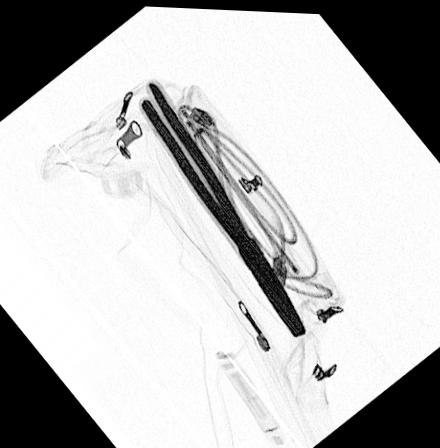Pliers: (137, 77, 307, 336)
